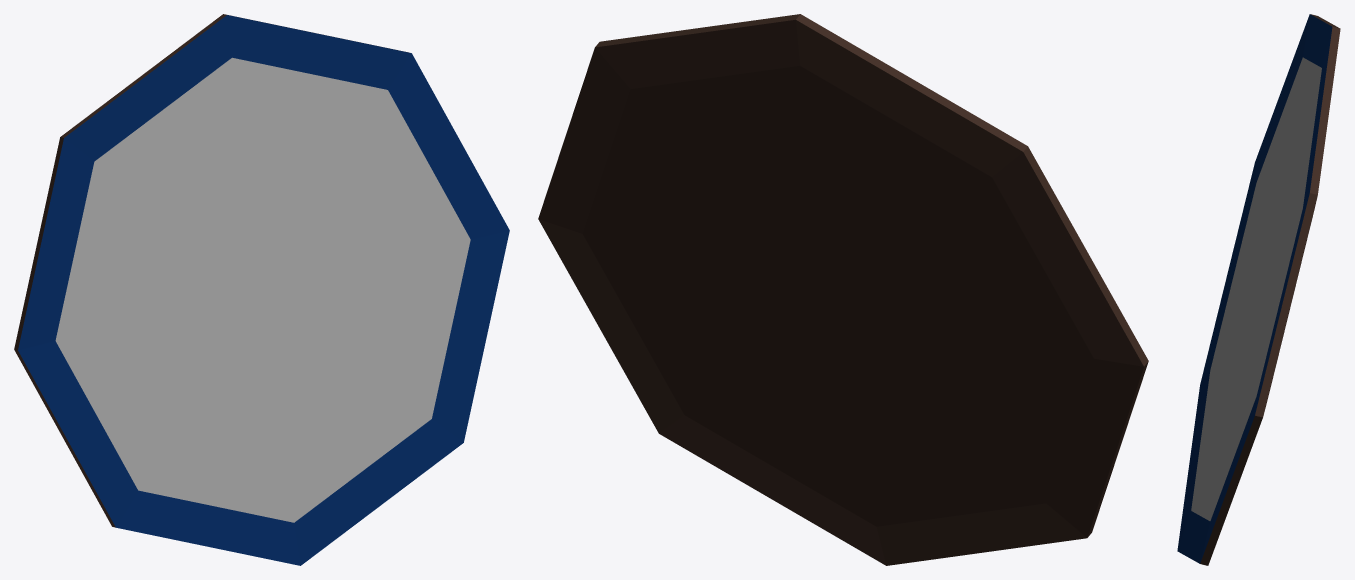
Rendered from Mirror_Round.fbx.
The picture shows the model from 3 angles, left to right: view 1: azimuth 30°, elevation 25°; view 2: azimuth 150°, elevation 25°; view 3: azimuth 270°, elevation 25°; orthographic projection. The views are drawn at different scales.
Parts seen in each view (by area): view 1: Artifact_1; view 2: Artifact_1; view 3: Artifact_1.
Boxes of the visible parts, x1,y1,x2,y2 form: Artifact_1: (14, 14, 509, 565); Artifact_1: (538, 14, 1148, 565); Artifact_1: (1177, 14, 1340, 565).
Bounding box in the file's own units: 7.84 × 7.6 × 2.13.
